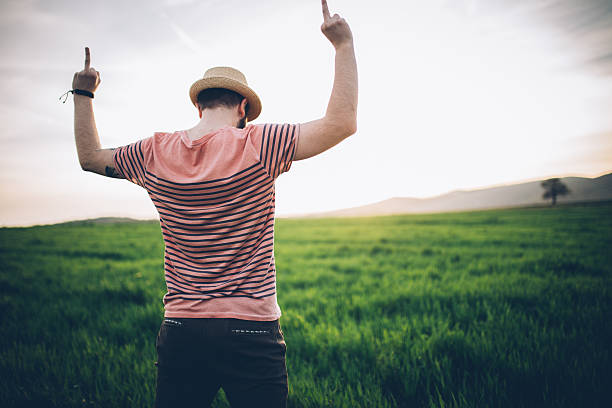insulting_gesture: (70, 41, 103, 104), (317, 0, 358, 48)
